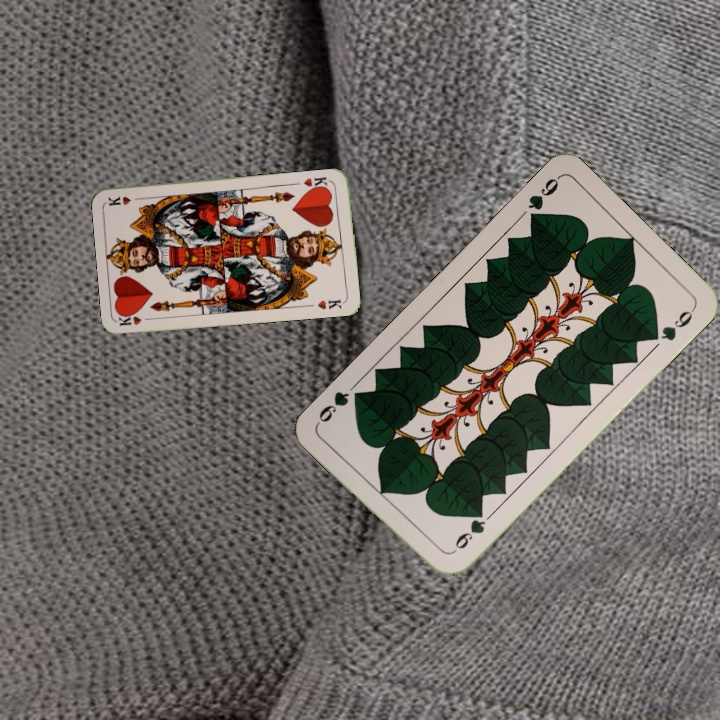G9: (523, 172, 562, 227), (450, 505, 489, 552)
HK: (115, 309, 157, 329), (300, 173, 334, 193)
